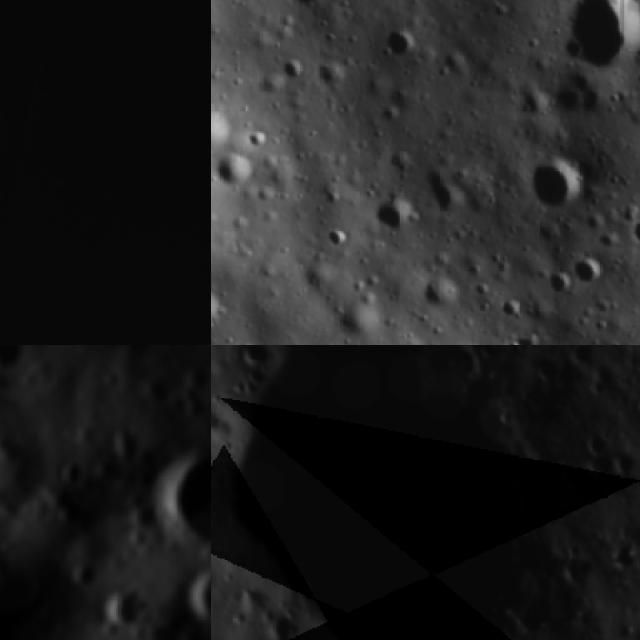crater: (242, 345, 585, 640), (135, 423, 211, 563), (553, 0, 640, 72), (0, 546, 65, 640), (91, 570, 156, 636), (527, 152, 592, 214), (169, 542, 211, 630), (102, 414, 159, 470), (550, 66, 612, 117), (418, 163, 469, 215), (59, 544, 108, 598), (136, 357, 185, 409), (332, 300, 385, 342), (371, 192, 420, 237), (211, 149, 257, 193), (418, 272, 467, 312), (53, 451, 96, 494), (211, 101, 241, 161), (382, 19, 423, 59), (568, 254, 609, 289), (0, 345, 39, 379), (0, 400, 16, 463), (211, 284, 230, 332), (548, 268, 576, 298), (582, 426, 612, 454), (238, 345, 275, 367), (278, 0, 337, 11), (510, 329, 541, 345), (628, 216, 640, 251), (583, 337, 614, 345)
